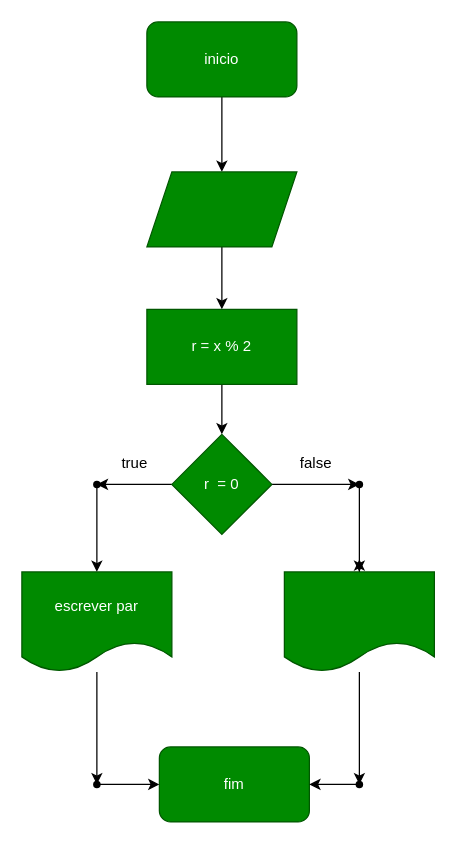
Image size: 456x844. Some labels were removed from this diagram. The box of each missing label's shape, as (x1, y1, x2, y2) in pixels:
escrever impar: (283, 571, 434, 672)
ler x: (146, 171, 297, 247)
